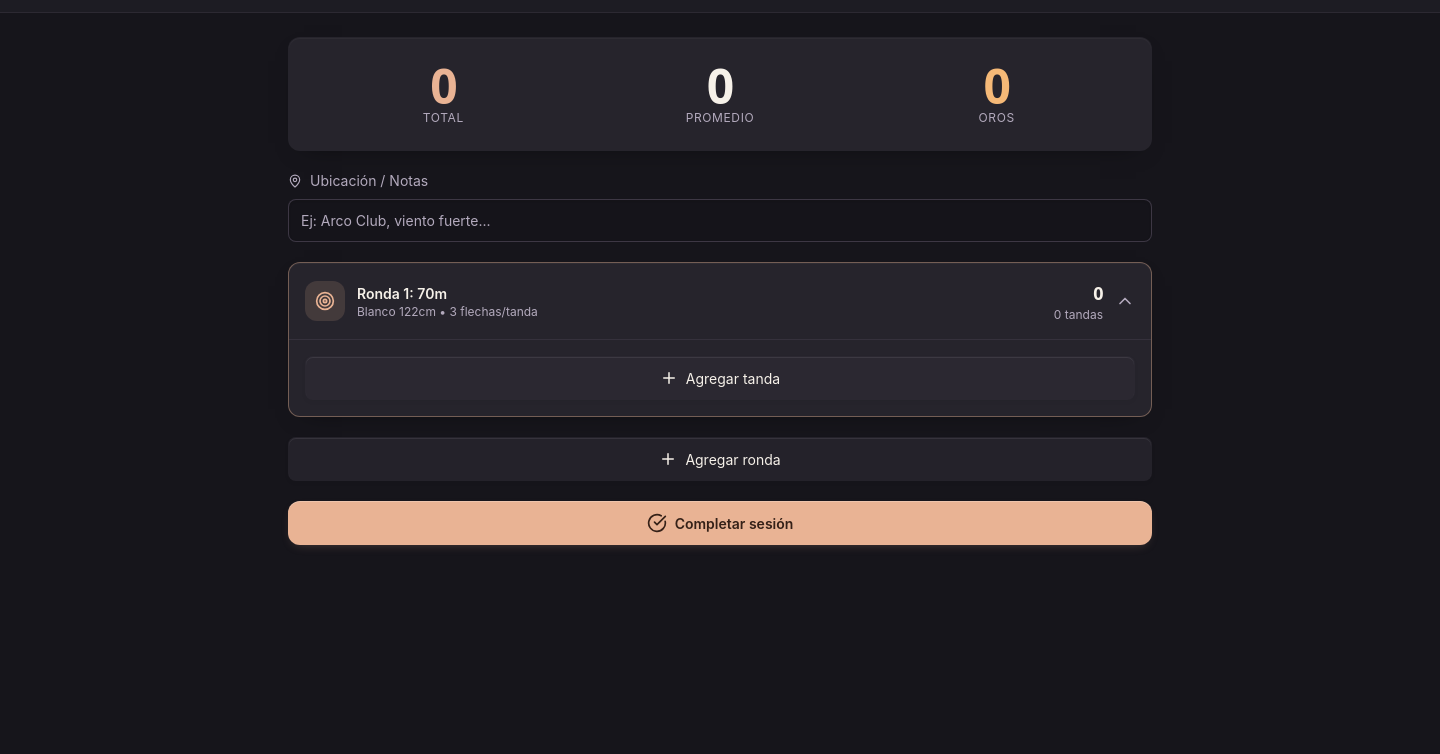
Scenario: ArcherySession › keeps the end input open when add end fails
Click the button "Agregar tanda": click(720, 378) [305, 356, 1135, 400]
(page scrolled)
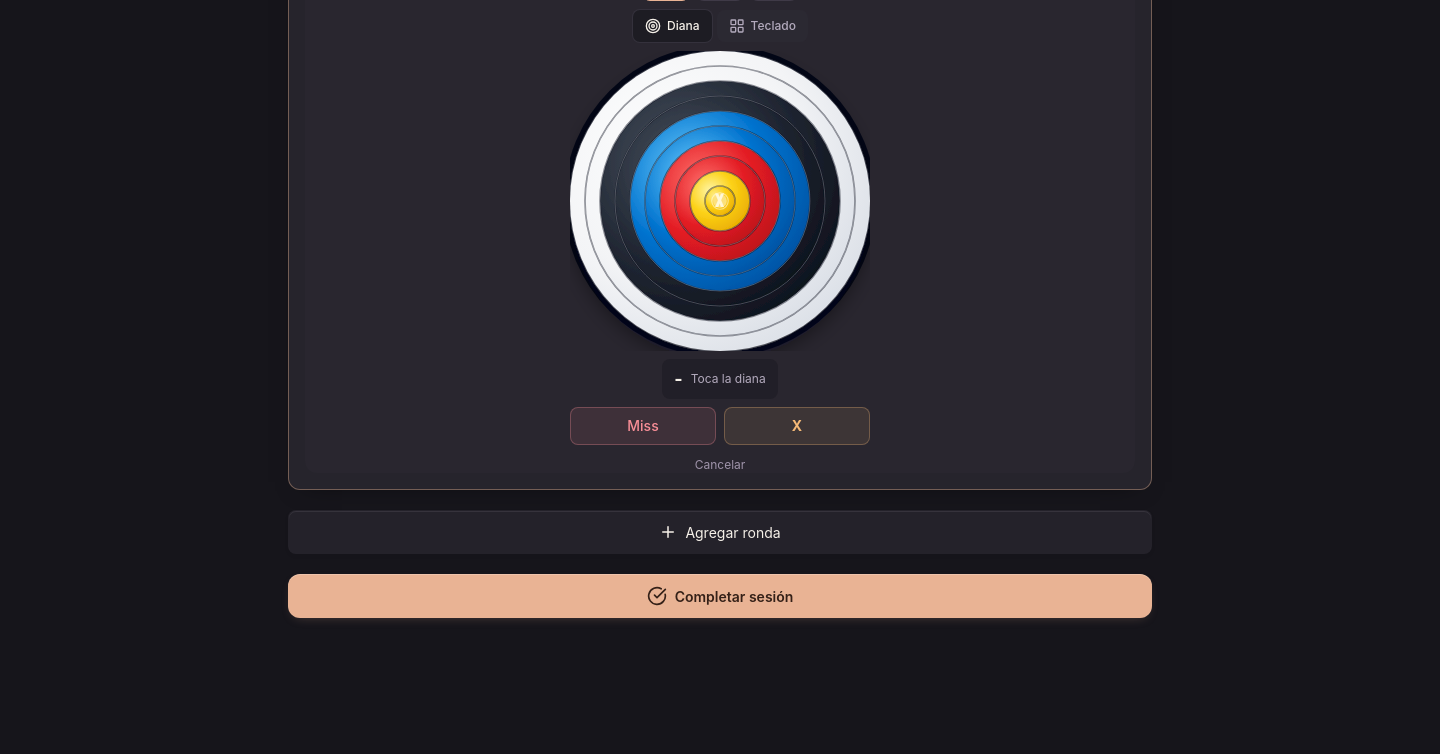
Click the button named "diez de oro": click(797, 426) [724, 407, 870, 445]
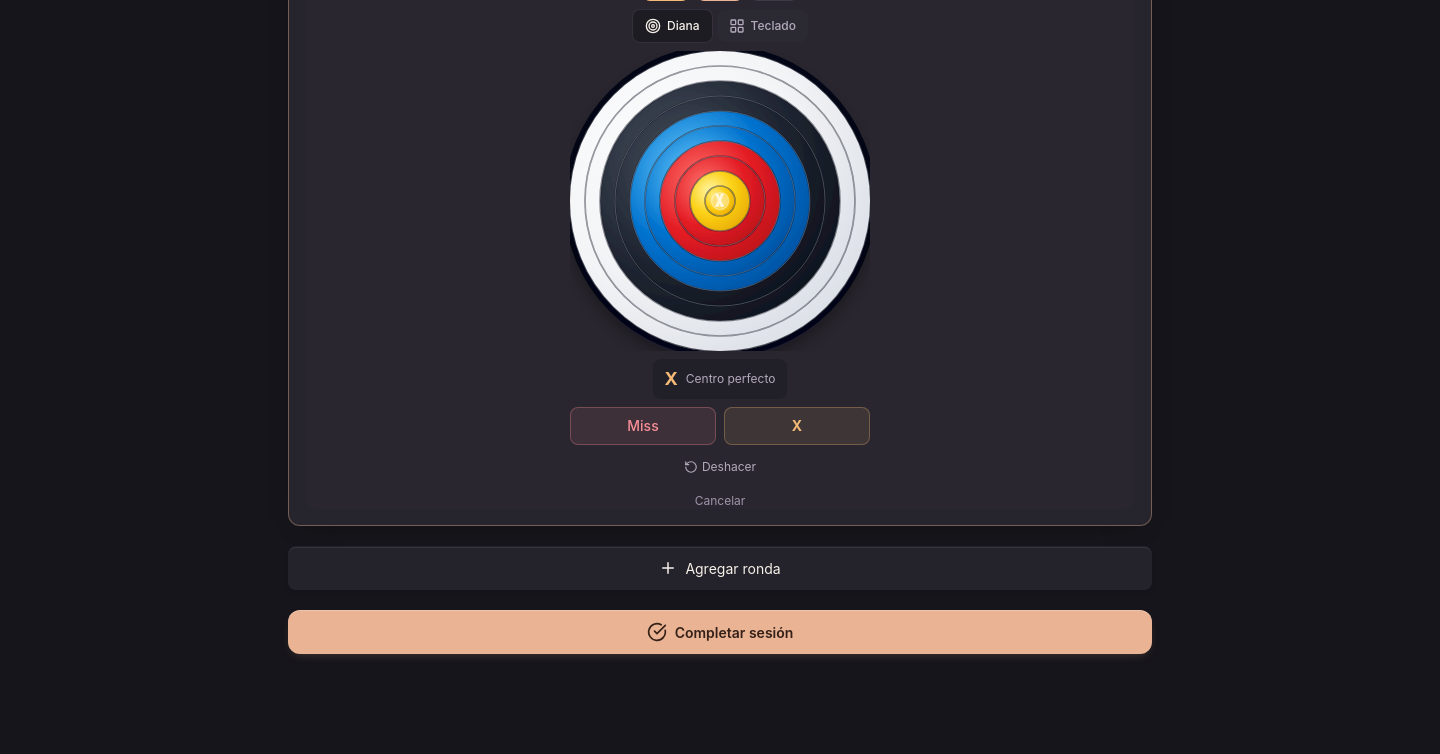
Click the button named "diez de oro": click(797, 426) [724, 407, 870, 445]
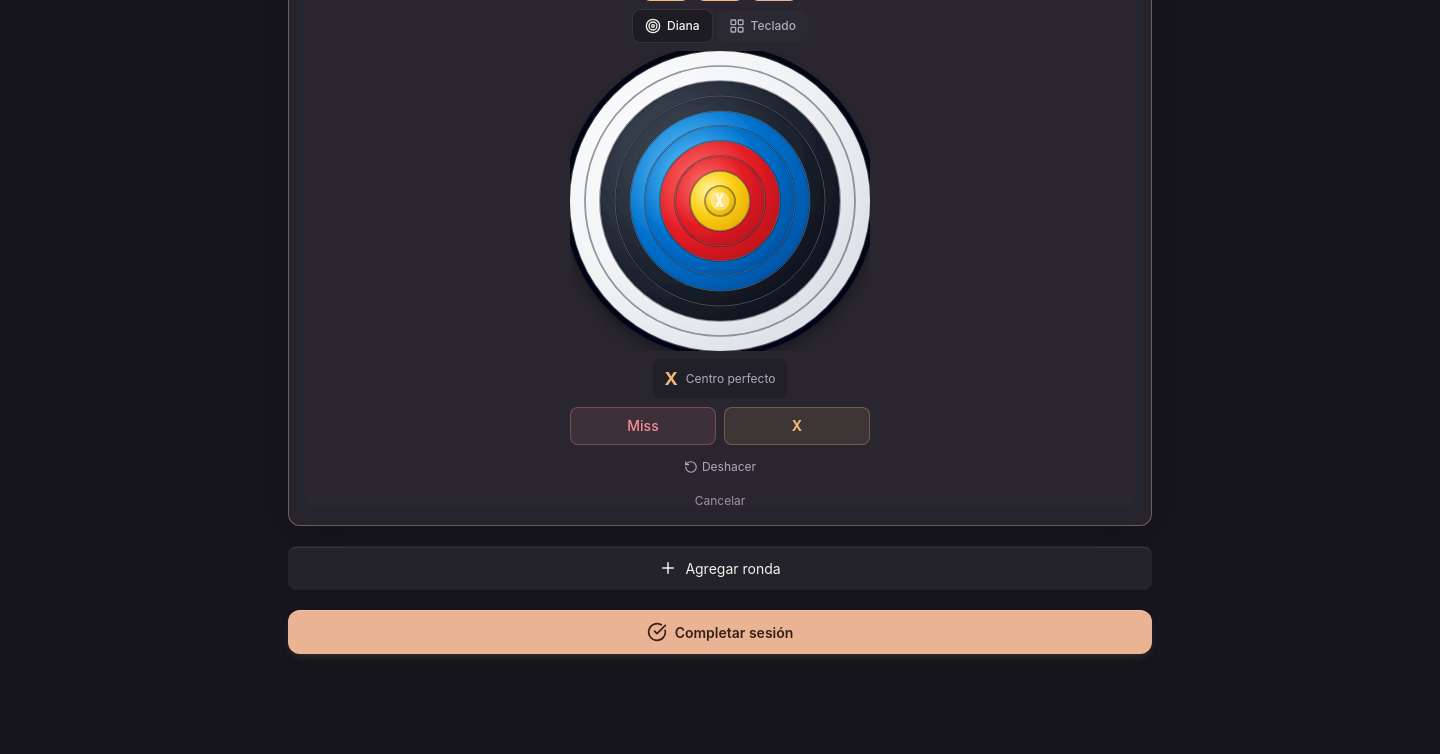
Click the button named "diez de oro": click(797, 426) [724, 407, 870, 445]
(page scrolled)
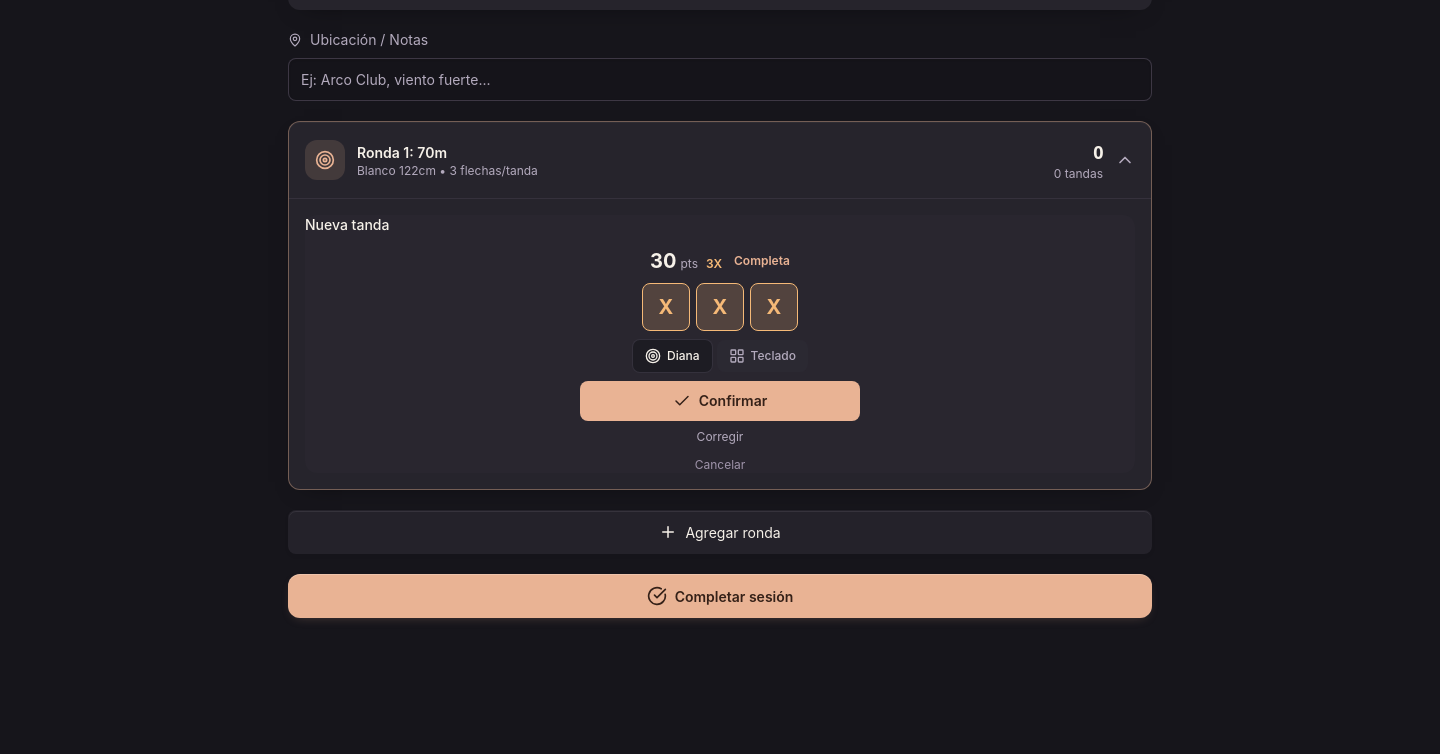
Click the button "Confirmar": click(720, 401) [580, 381, 860, 421]
(page scrolled)
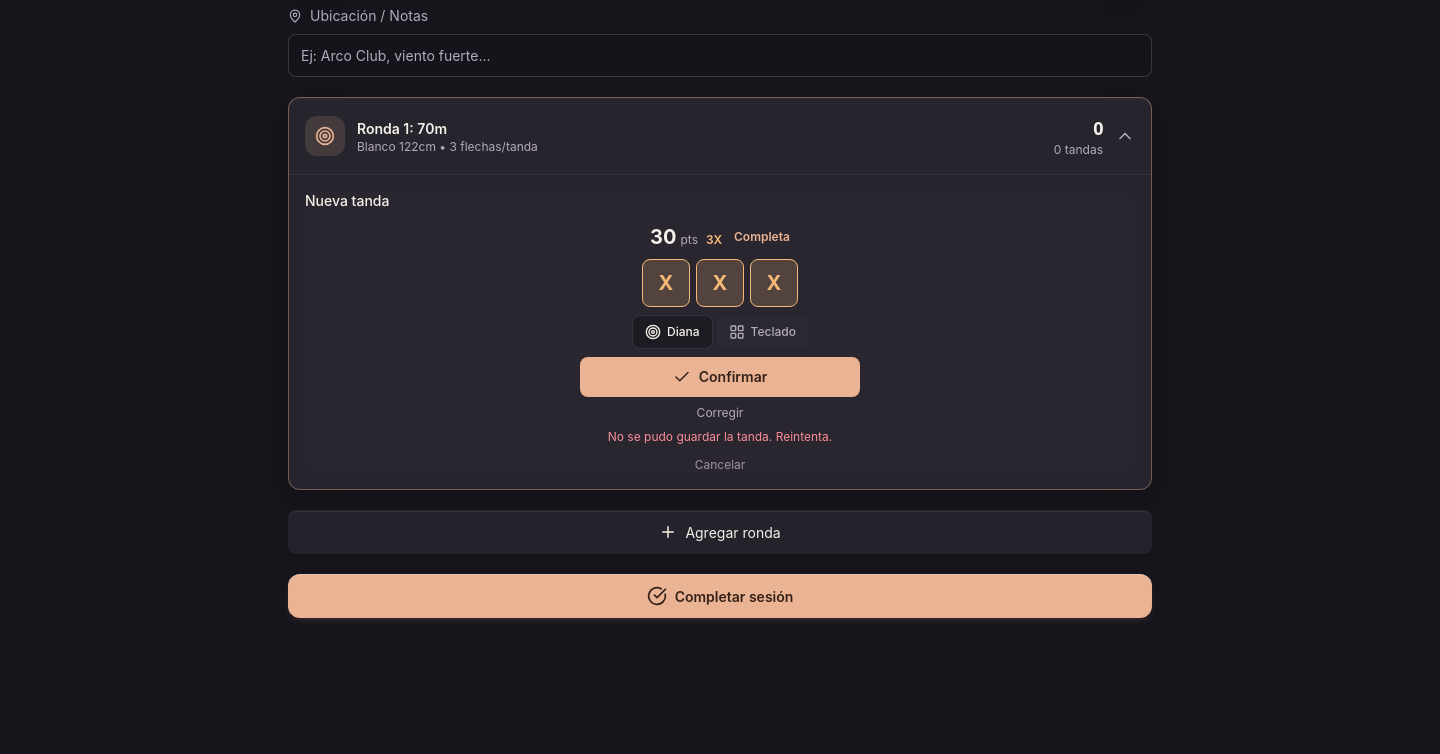
expect the text "Nueva tanda" is shown: met, box [305, 192, 389, 209]
expect the button named "flecha" reads "X": met, box [642, 259, 690, 307]
expect the text "No se pudo guardar la tanda. Reintenta." is shown: met, box [608, 429, 832, 445]
